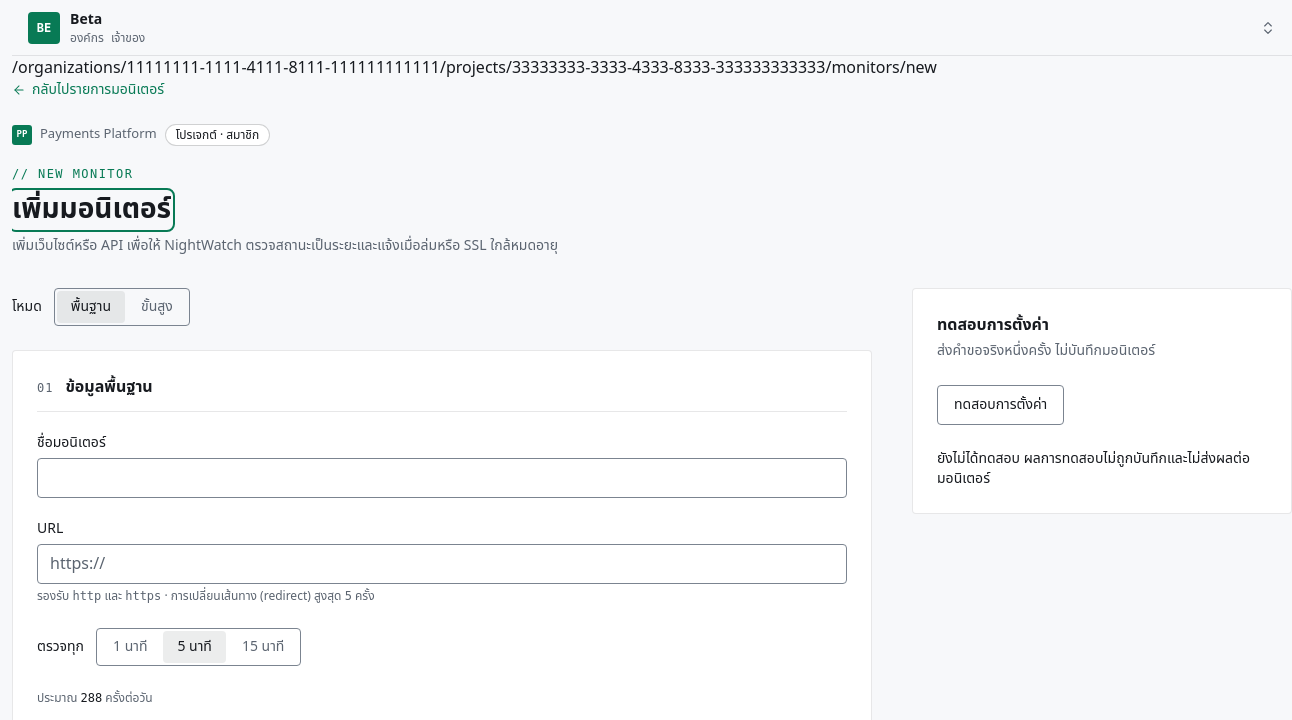
Scenario: a route Organization that is not the server-active one › leaves after the URL's Organization was picked and the first active one is picked again
Type "typed" into the field with test id "monitor-form-name" at (442, 478), box [37,458,847,498]
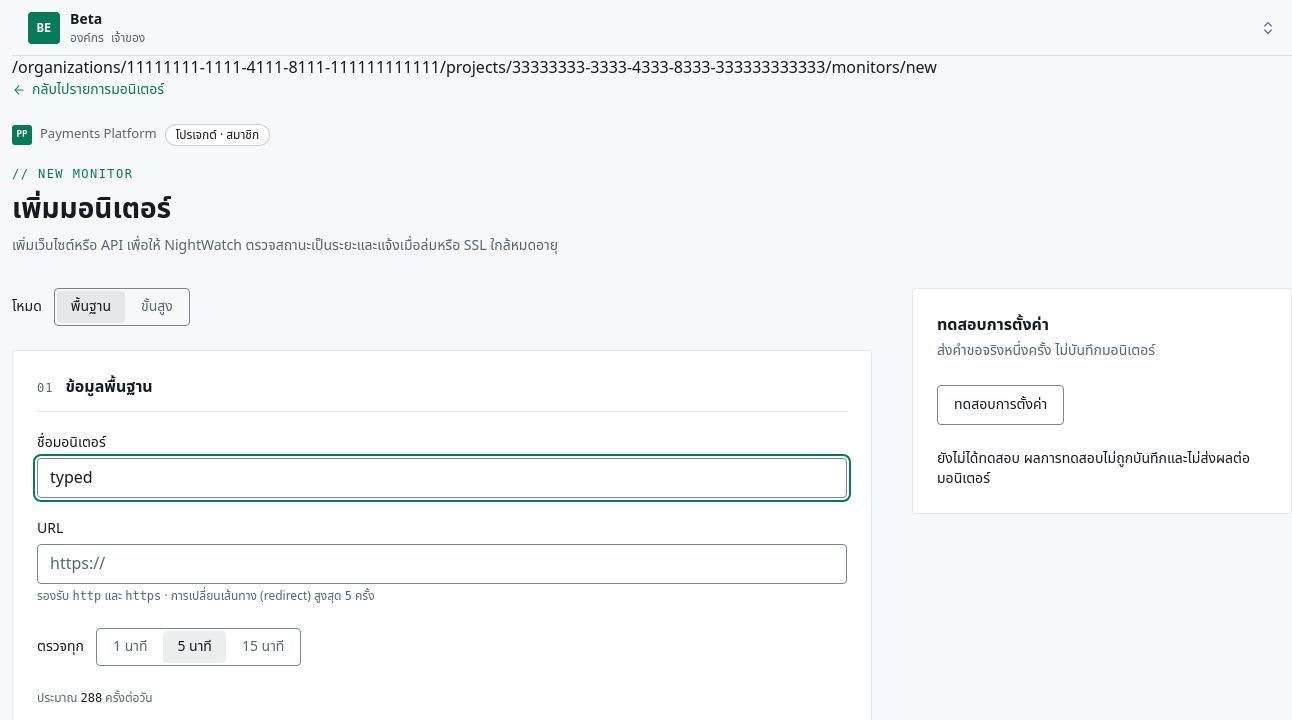
Click the button with test id "shell-organization-switch" at (44, 28), box [20,8,1284,48]
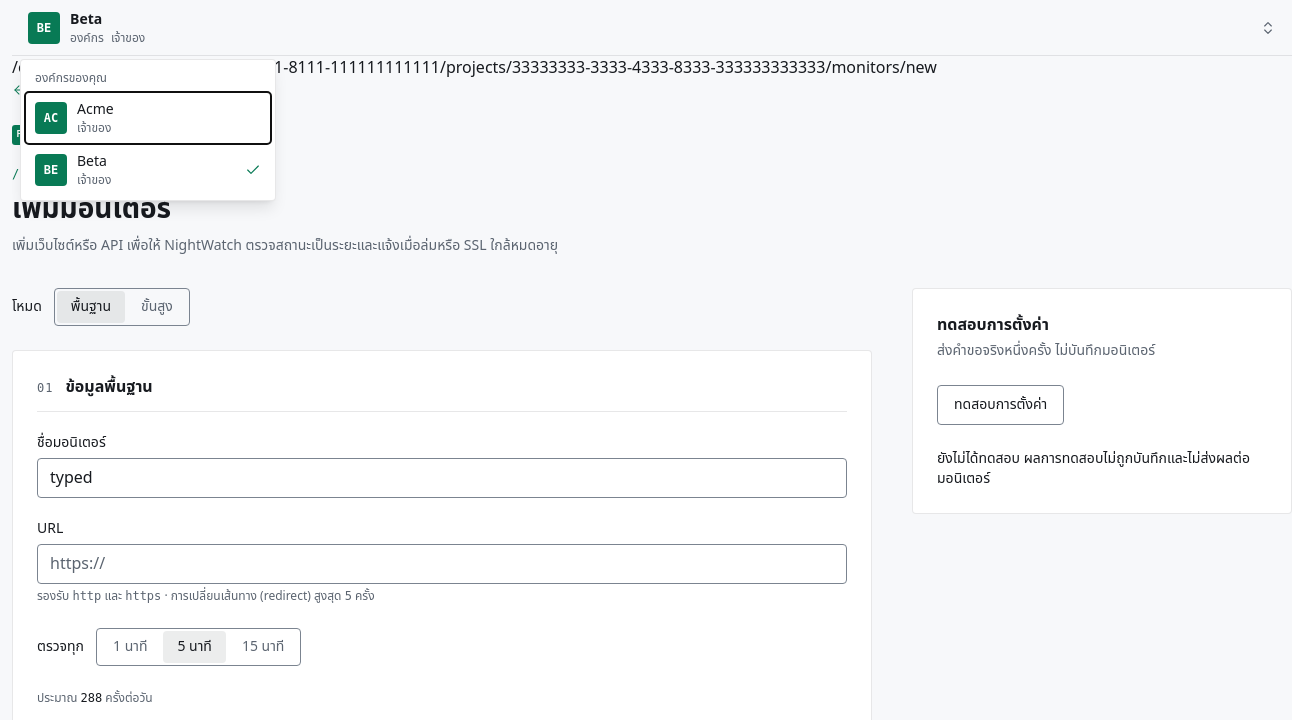
Click the menu item "AC Acme เจ้าของ" at (148, 118), box [25,92,271,144]
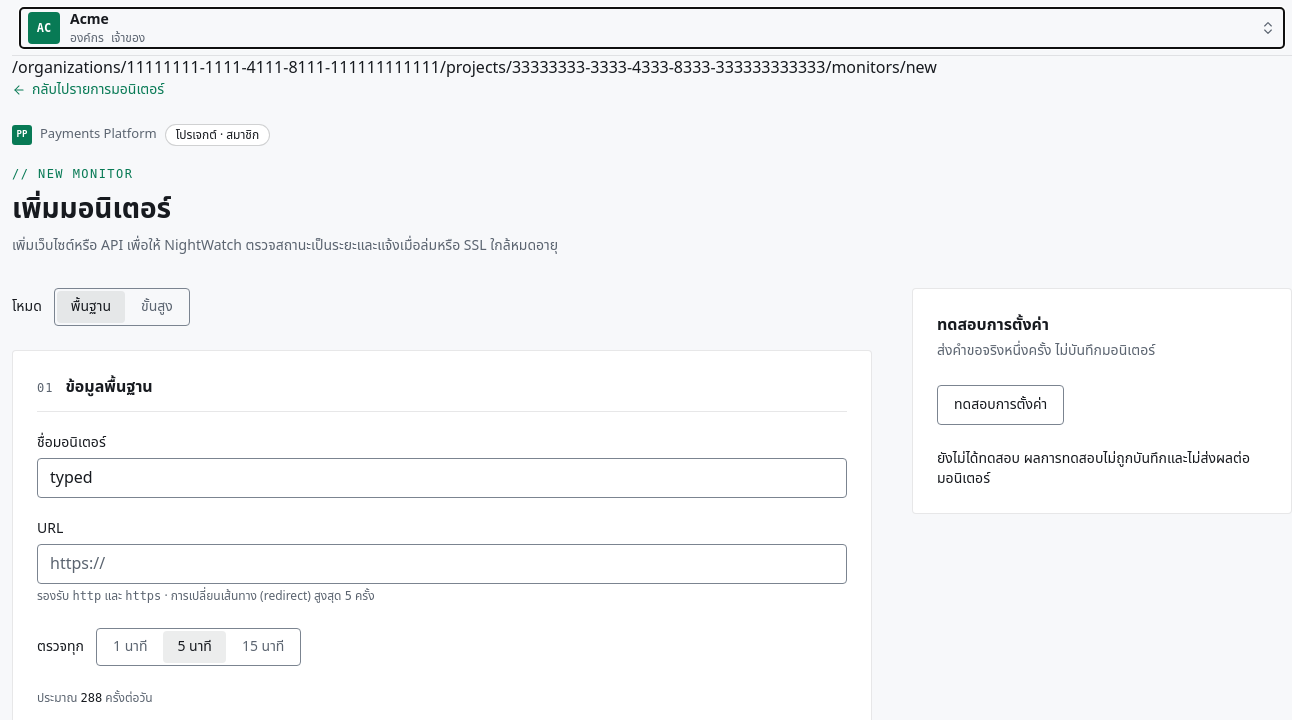
Click the button with test id "shell-organization-switch" at (44, 28), box [20,8,1284,48]
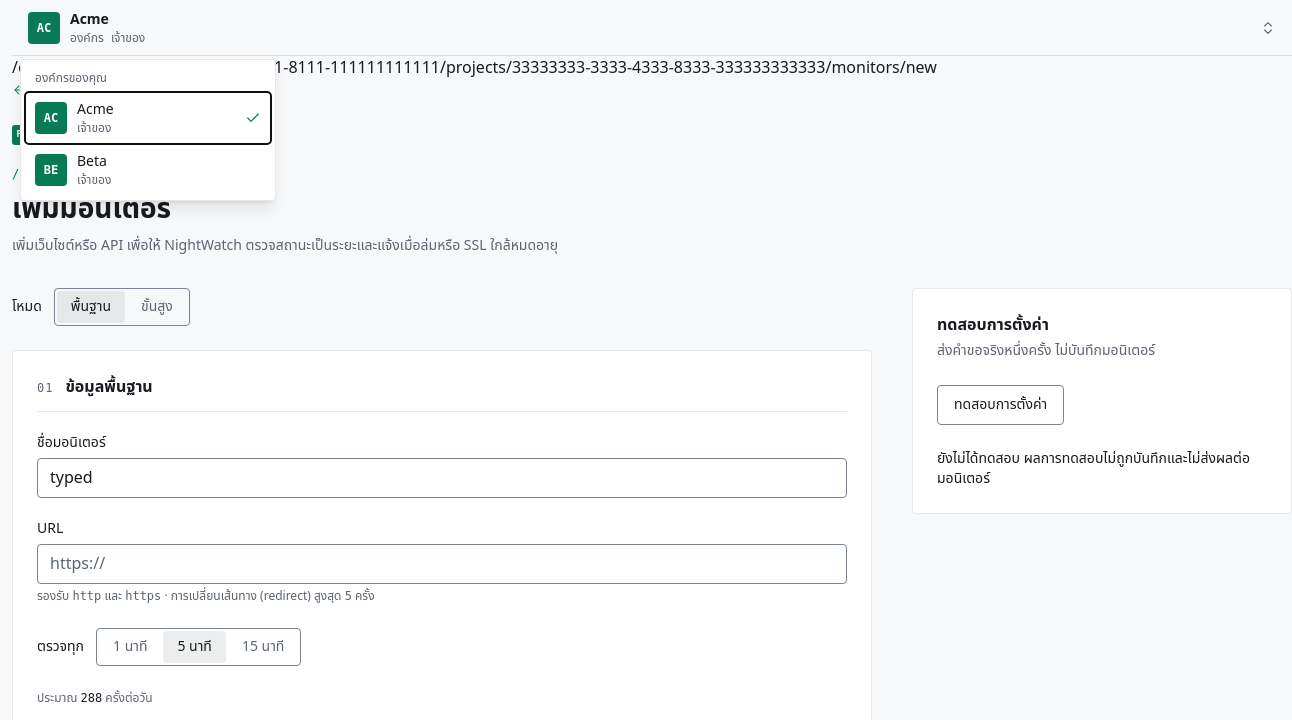
Click the menu item "BE Beta เจ้าของ" at (148, 170), box [25,144,271,196]
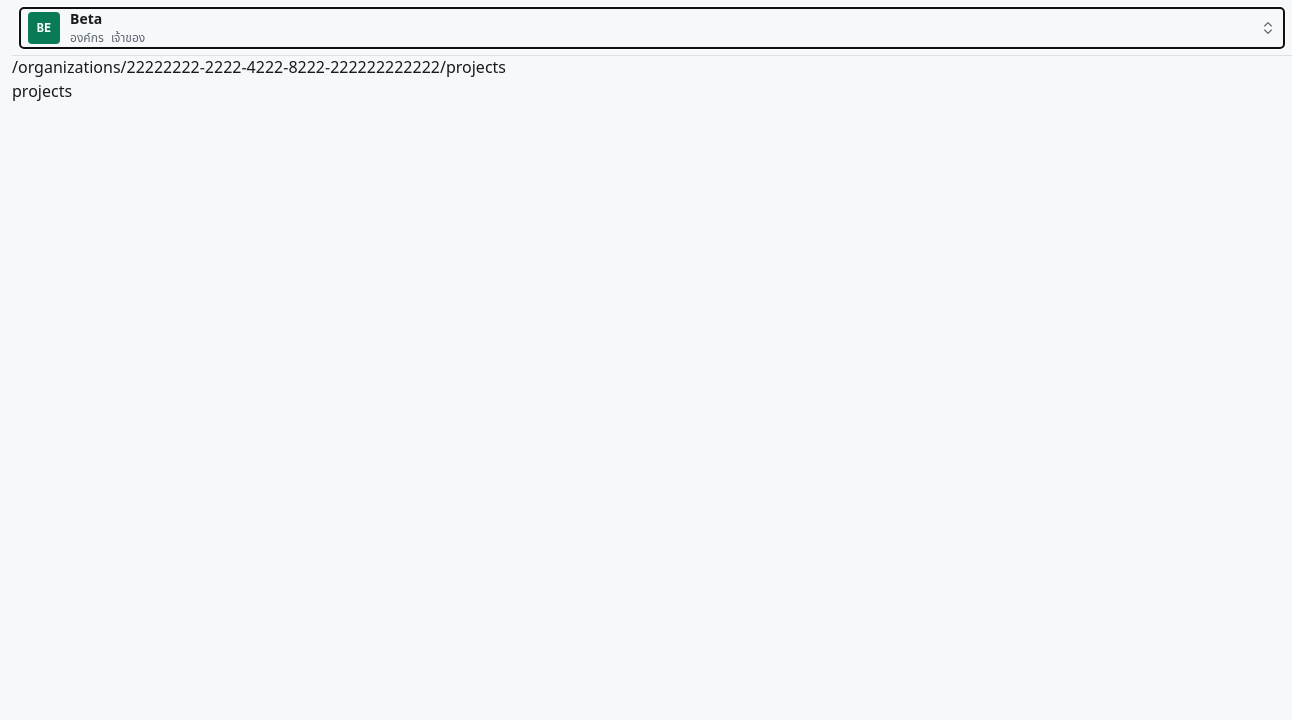
Now the field with test id "monitor-form-name" is gone
